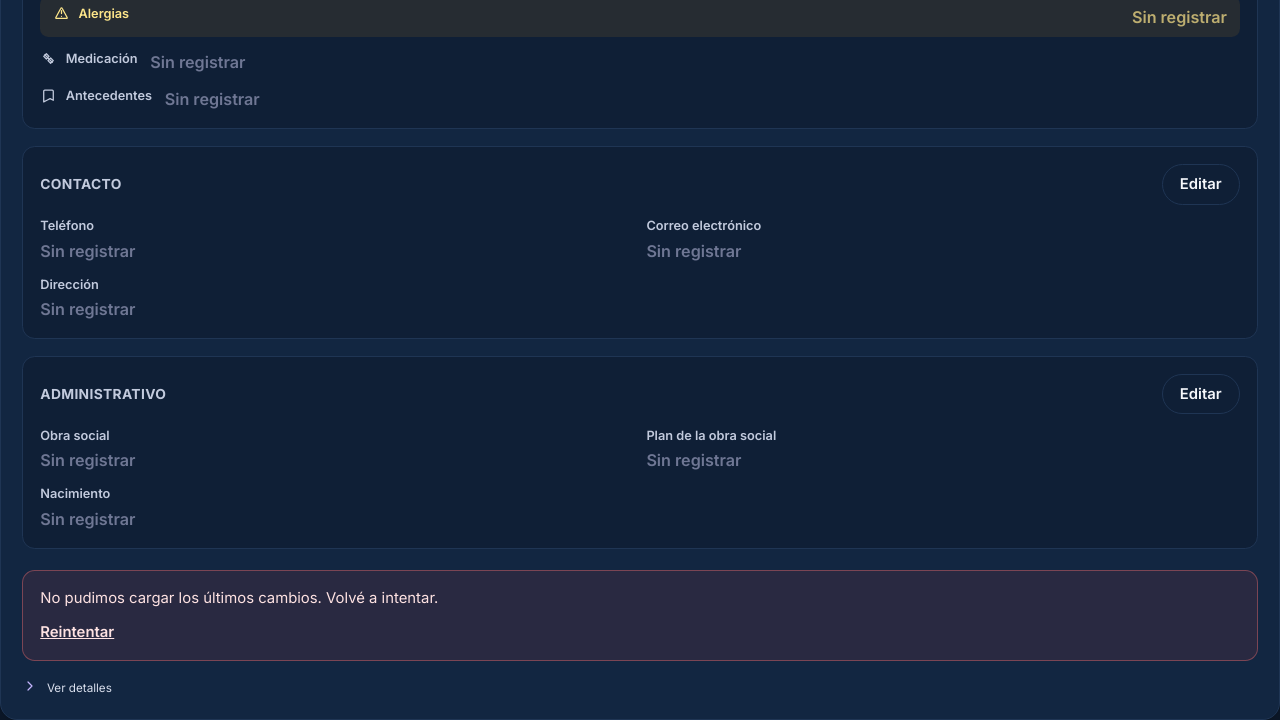
patient profile deferred changes › shows recovery after a partial success without repeatedly fetching in an effect
(page scrolled)
Expected: the text "No pudimos cargar los últimos cambios. Volvé a intentar." is shown, [40,589,438,607]
Click the button "Reintentar".
click(77, 633)  # box [40,622,114,643]
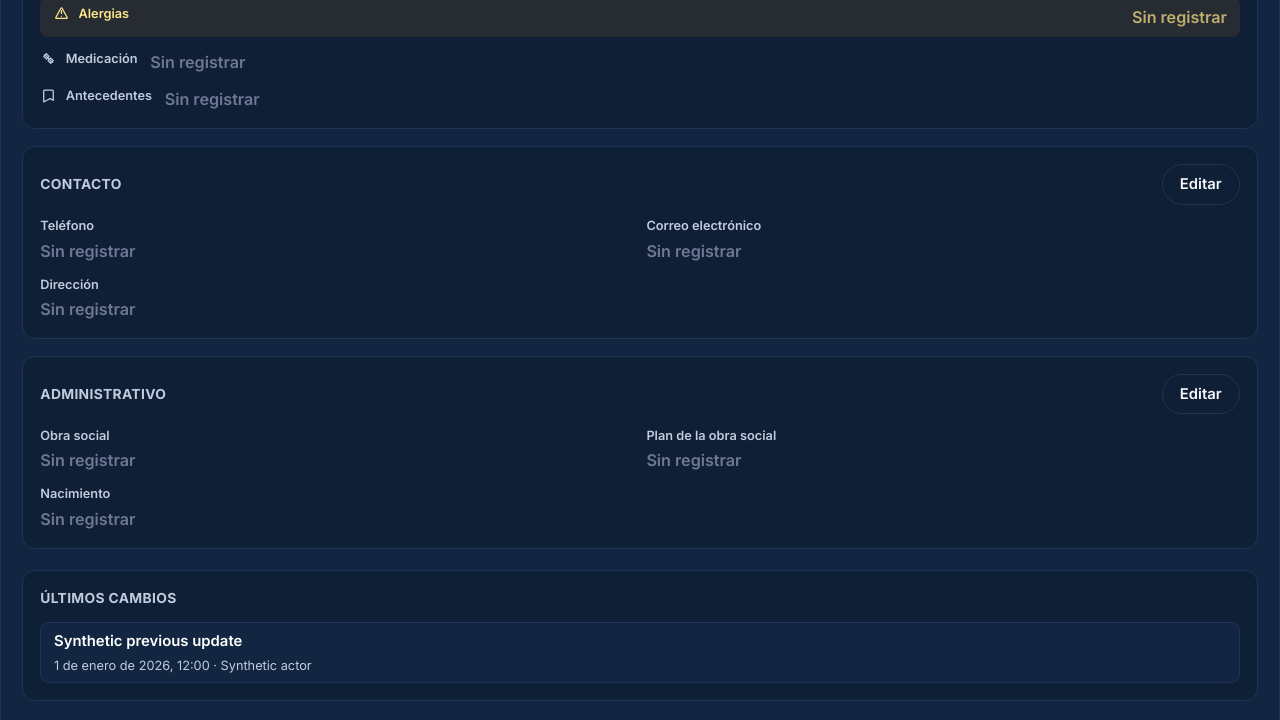
Result: the text "Synthetic previous update" is shown at [54,632,242,650]
